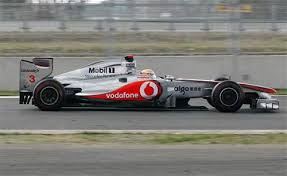FormulaOneCar: (15, 49, 283, 118)
